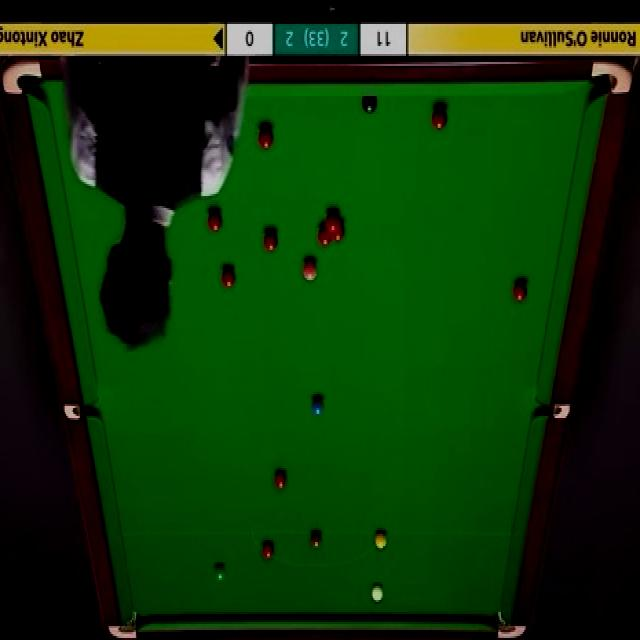black-ball: (362, 97, 379, 117)
blue-ball: (310, 396, 325, 416)
brown-ball: (310, 532, 322, 552)
green-ball: (214, 562, 228, 584)
pink-ball: (301, 256, 318, 281)
red-ball: (206, 207, 222, 234), (258, 126, 275, 150), (513, 275, 528, 302), (432, 106, 448, 129), (263, 230, 278, 254), (332, 218, 346, 242), (261, 541, 276, 562), (273, 470, 288, 491), (318, 222, 331, 246), (324, 210, 340, 229), (222, 268, 236, 288)
white-ball: (371, 584, 384, 603)
yellow-ball: (374, 531, 388, 549)
